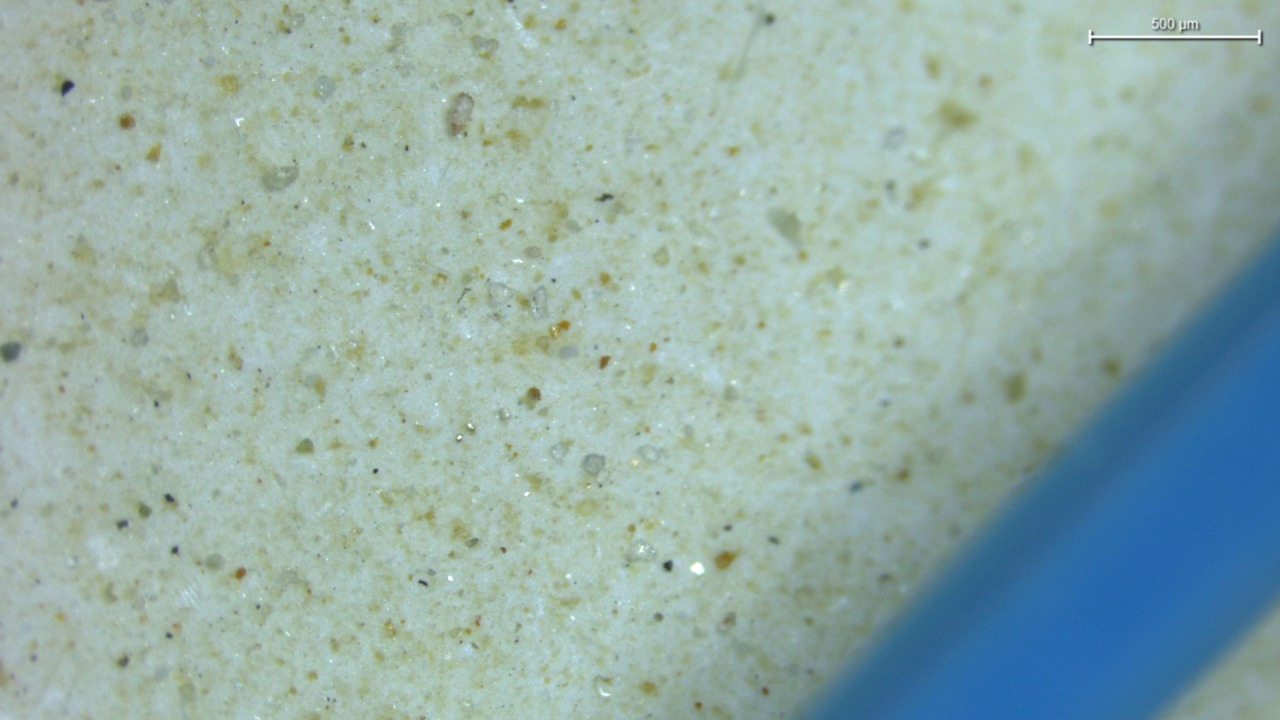microplastic_fragment: (446, 92, 474, 136), (626, 540, 653, 562), (581, 454, 606, 475), (637, 446, 665, 462)
